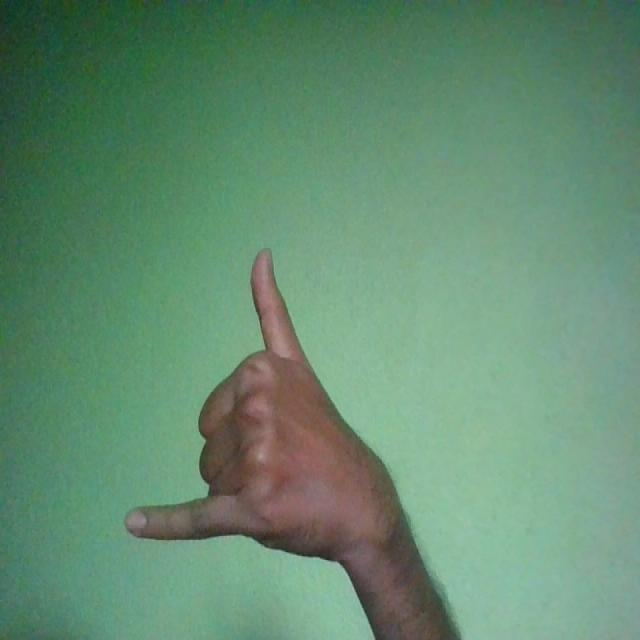Call Me: (124, 247, 401, 567)
